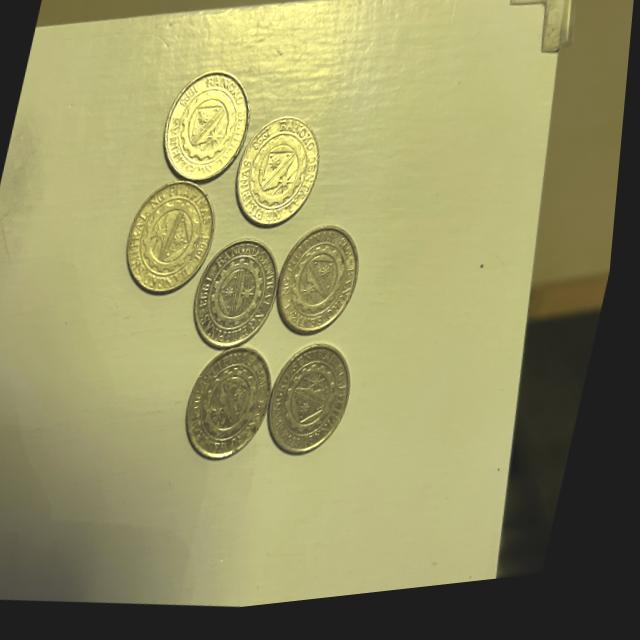1_Old_Back: (203, 246, 280, 349), (133, 197, 212, 291), (168, 85, 243, 178), (198, 364, 272, 456), (245, 131, 316, 224), (281, 364, 351, 456), (286, 247, 356, 330)
